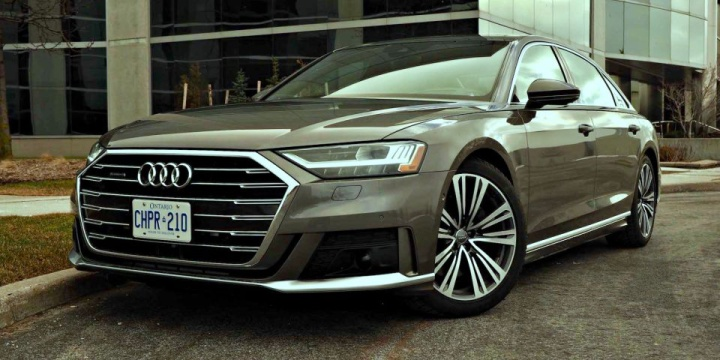audi: (126, 161, 204, 194)
